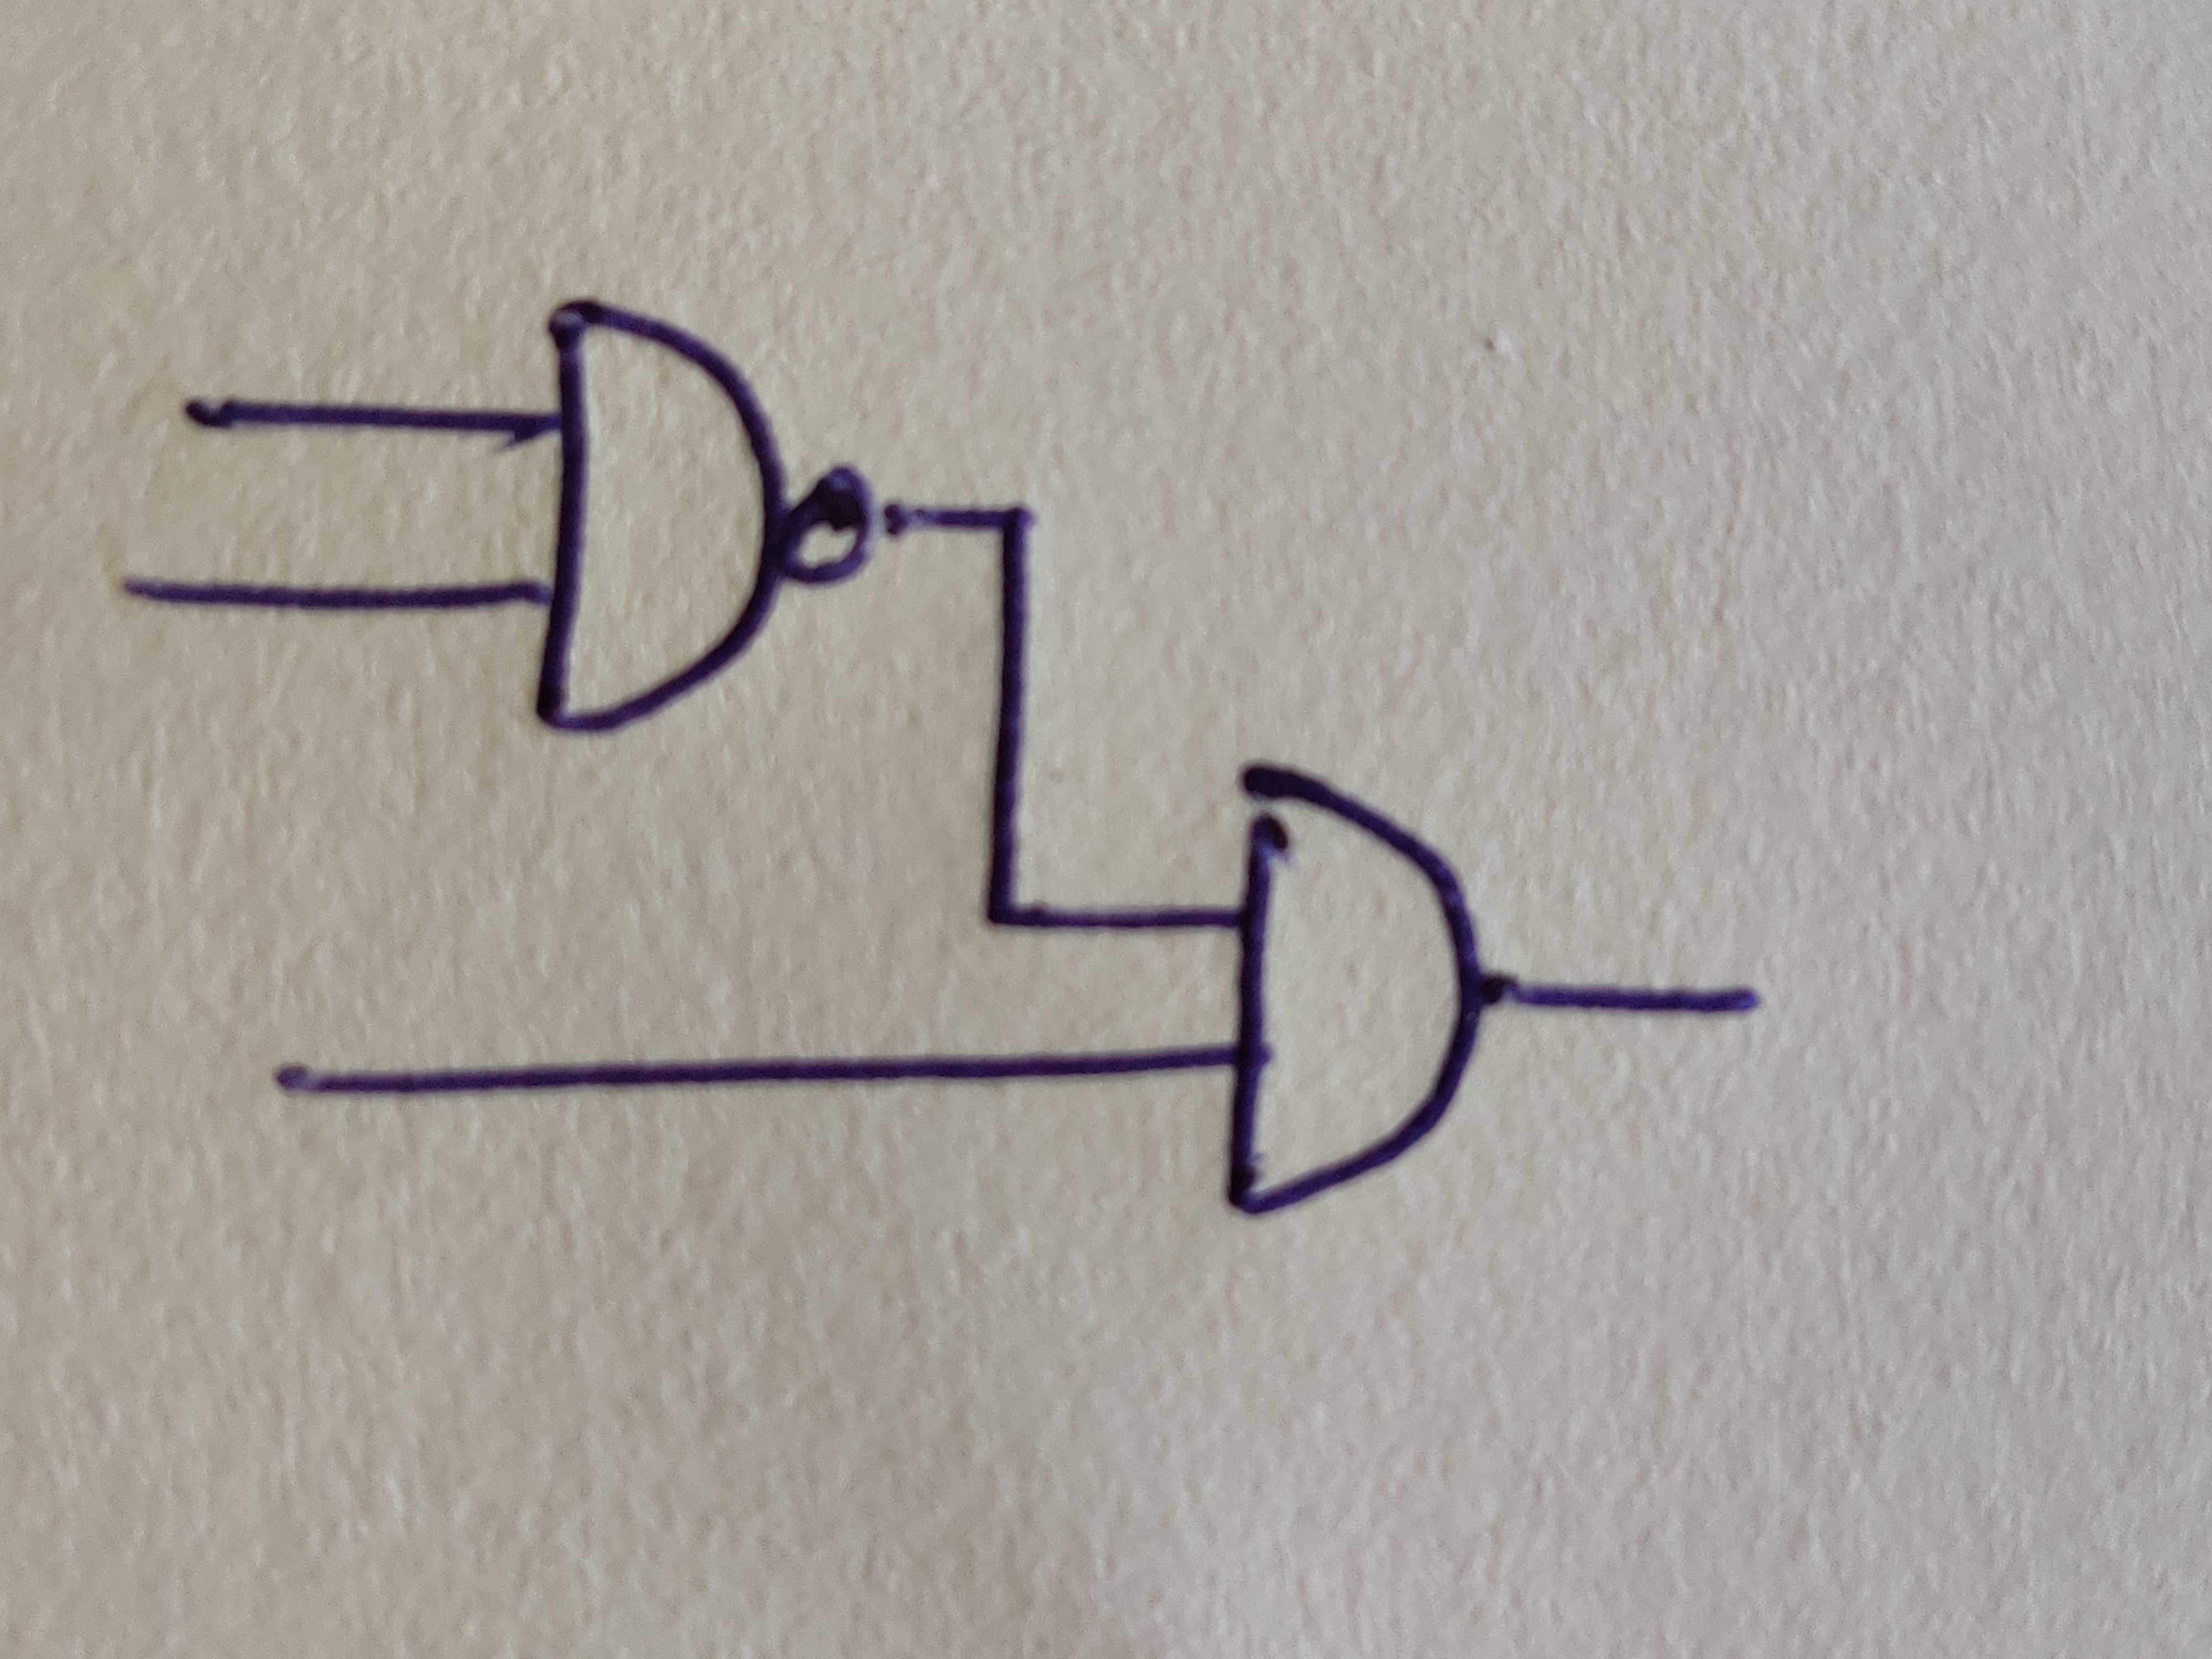and: (1230, 765, 1480, 1218), (540, 300, 789, 735)
not: (780, 464, 876, 587)
